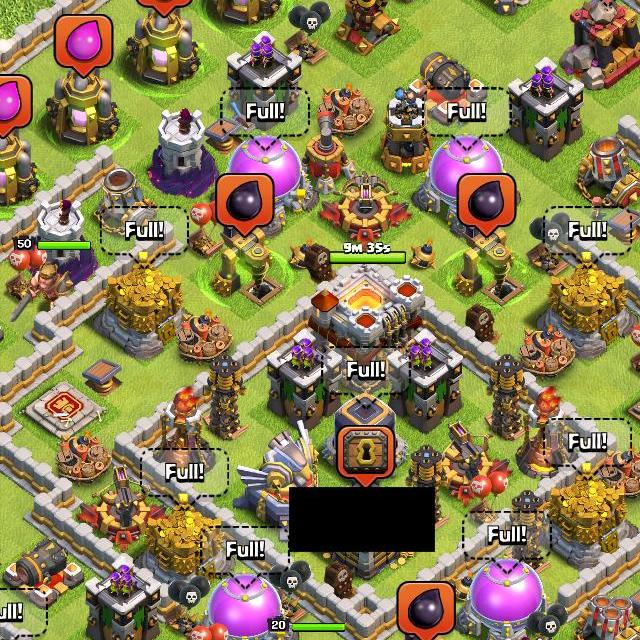FullElixir: (54, 14, 114, 78), (0, 74, 33, 139)
FullElixirNegro: (457, 172, 517, 235), (217, 172, 275, 236), (397, 582, 456, 640)
